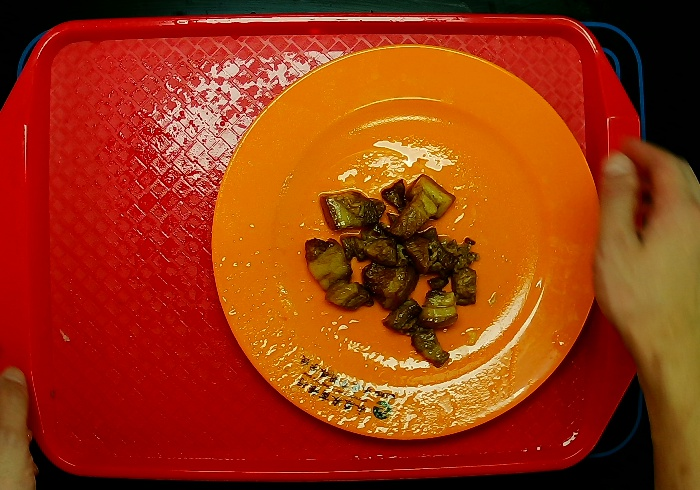YKMZ-Ju_Se_Mian_Pan: (207, 38, 605, 448)
